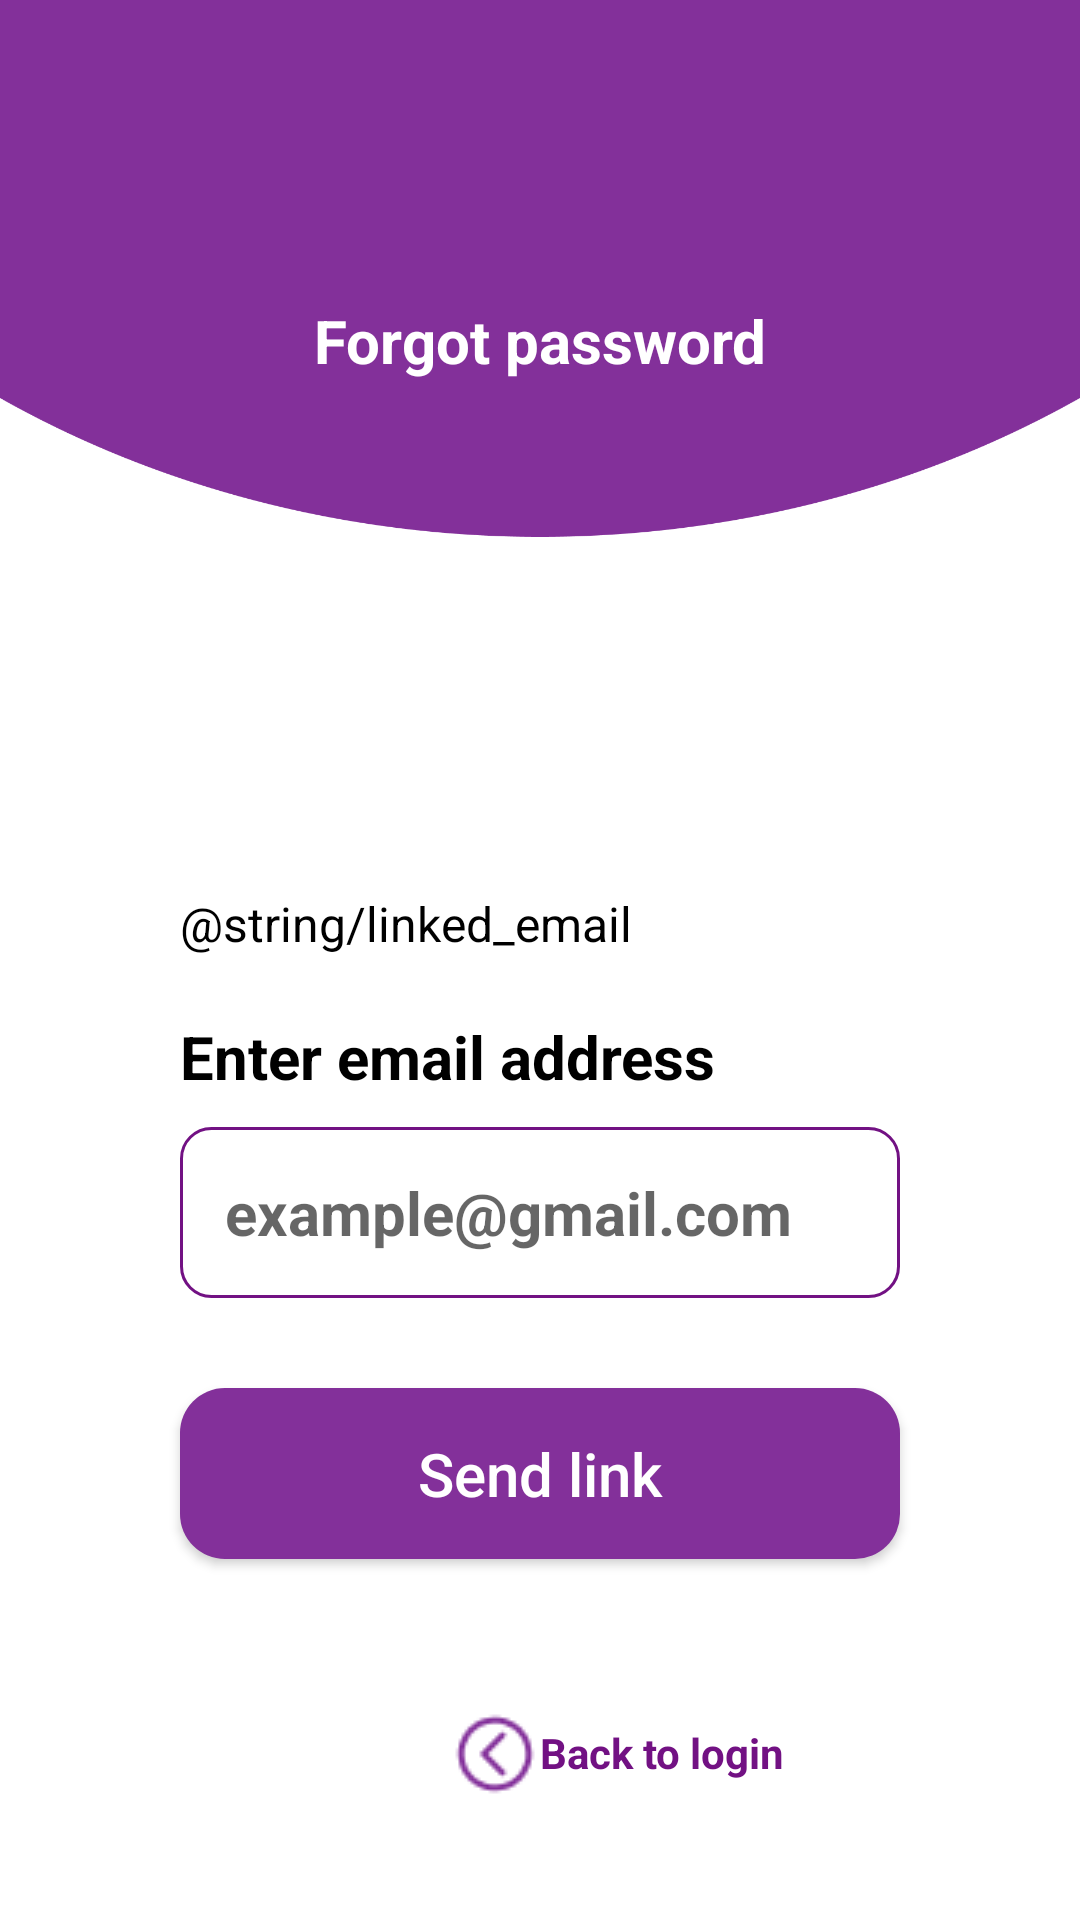

Named icons in this screenshot (1080x1920) and their bounding boxes, (x1, y1, x2, y2):
circle arrow: (456, 1715, 534, 1793)
